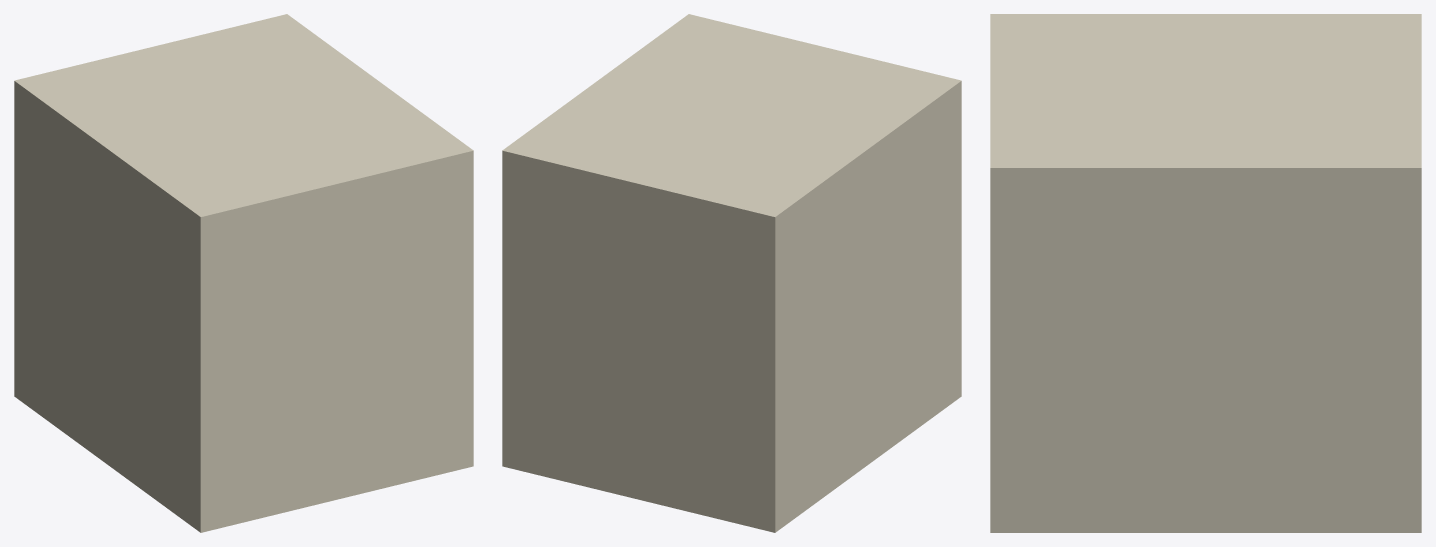
File: chicken.glb
3 renders of one model, left to right at view 1: azimuth 30°, elevation 25°; view 2: azimuth 150°, elevation 25°; view 3: azimuth 270°, elevation 25°, orthographic. The views are drawn at different scales.
Visible parts, largest first — view 1: RootNode; view 2: RootNode; view 3: RootNode.
Boxes of the visible parts, x1,y1,x2,y2 form: RootNode: [14, 14, 473, 532]; RootNode: [502, 14, 961, 532]; RootNode: [990, 14, 1421, 532].
Size of the model in its own units: 0.38 by 0.42 by 0.45.
